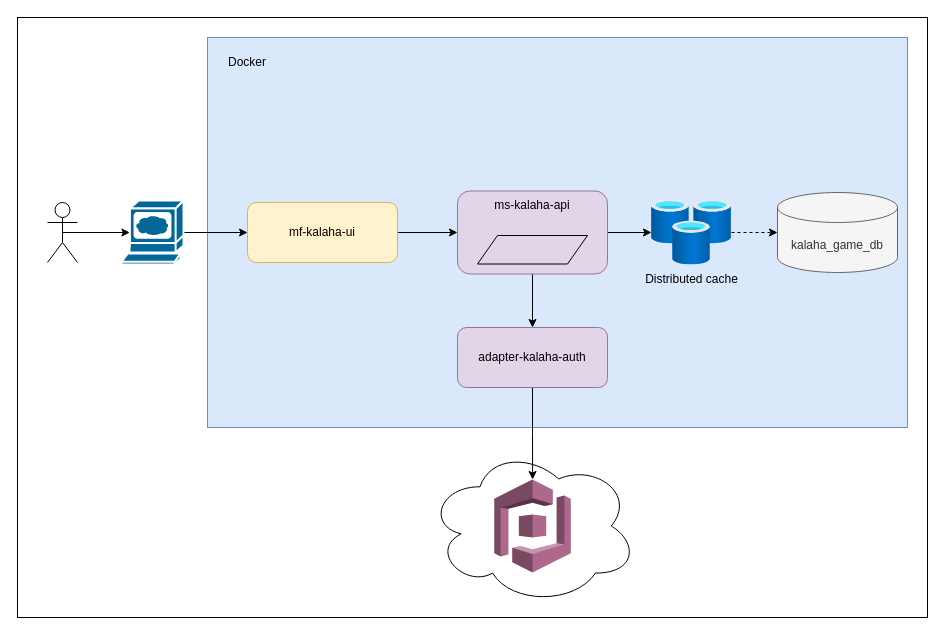
Some shapes in this 945 by 635 pixel diagram are drawn without their labels. The shapes that lost their labels are listed below. From the top down, each one's box as (x1, y1, x2, y2) in pixels, then its label:
(46, 202, 78, 262): Players
(476, 234, 588, 264): kalaha-core
